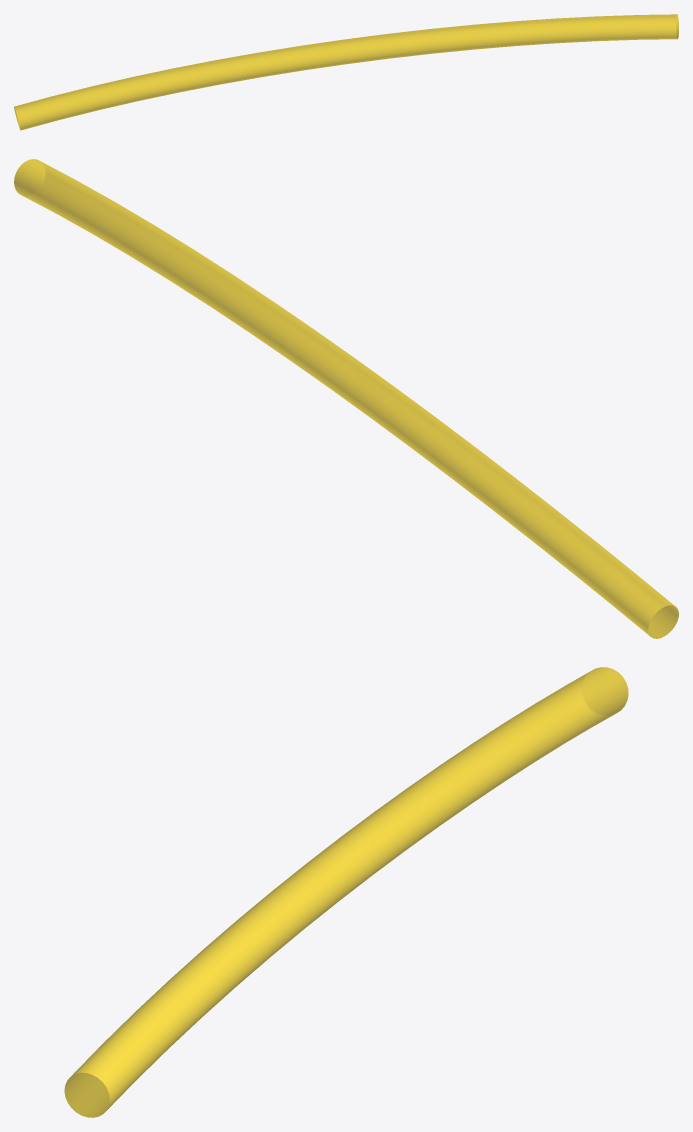
Rendered from Event_15818458_track_45.fbx.
3 renders of one model, top to bottom at view 1: azimuth 30°, elevation 25°; view 2: azimuth 150°, elevation 25°; view 3: azimuth 270°, elevation 25°, orthographic. The views are drawn at different scales.
Visible parts, largest first — view 1: Model; view 2: Model; view 3: Model.
Boxes of the visible parts, x1=… form: Model: x1=14, y1=14, x2=678, y2=130; Model: x1=14, y1=159, x2=678, y2=638; Model: x1=64, y1=667, x2=628, y2=1117.
Size of the model in its own units: 1 by 0.1436 by 0.4532.
